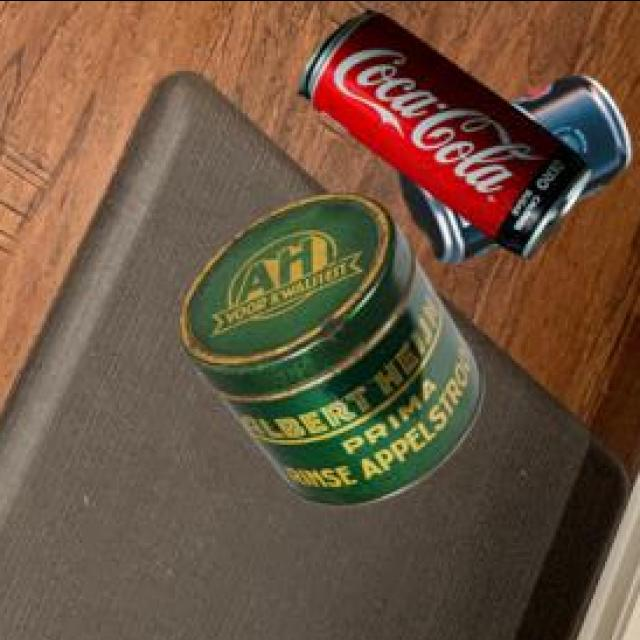logam: (183, 188, 487, 503), (302, 6, 594, 253), (403, 71, 634, 258)
